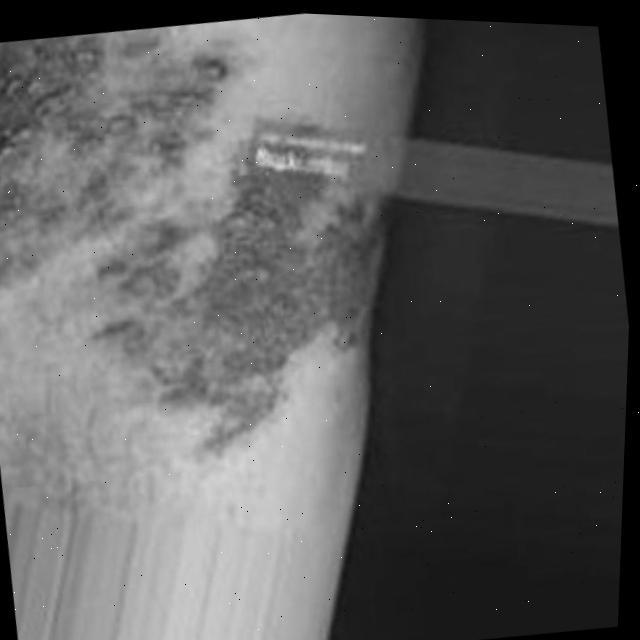Shingles: (56, 110, 420, 491), (0, 9, 266, 317)
